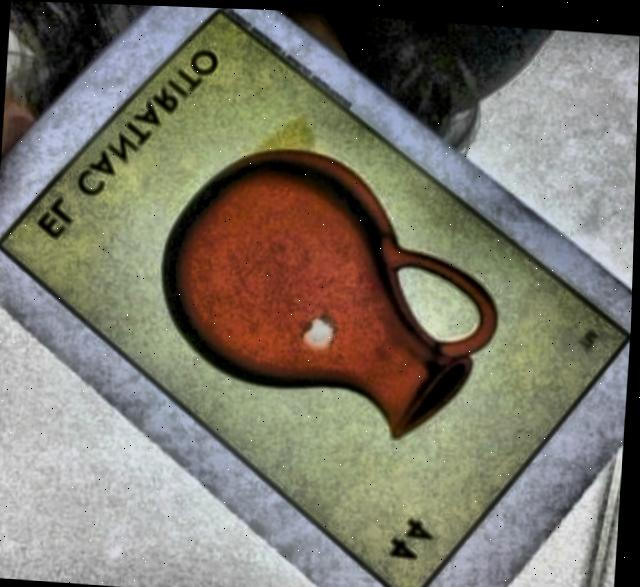El Cantarito: (2, 9, 631, 587)
